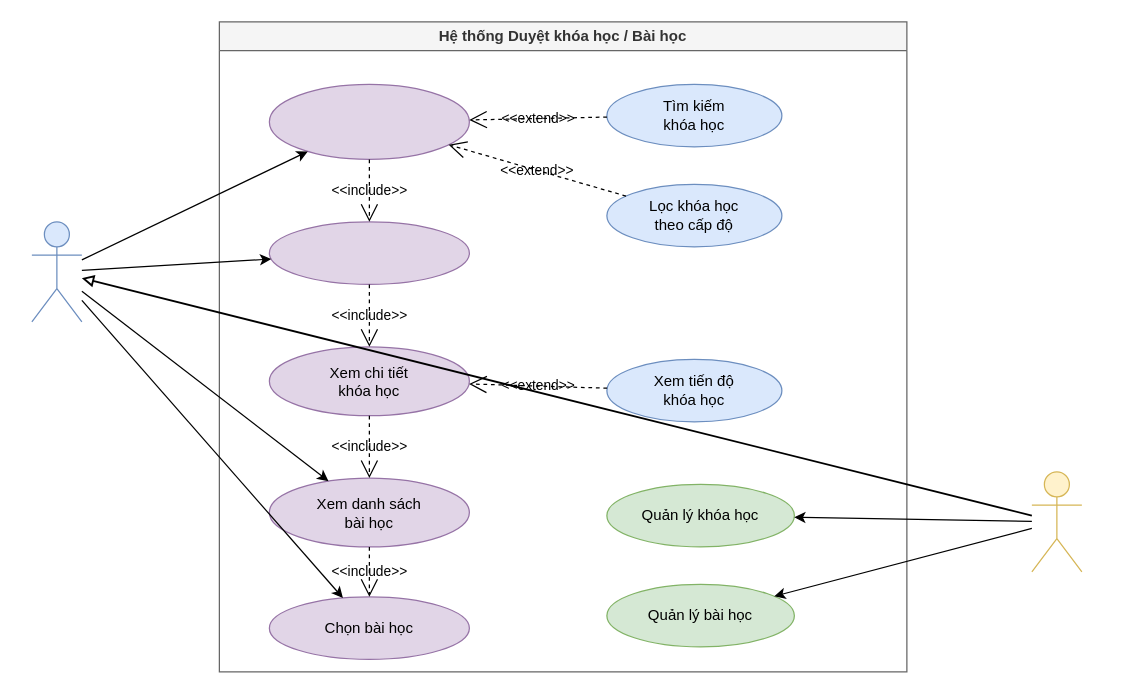
The diagram is 1121 pixels wide and 694 high, and some of its shapes have lost their labels. The shapes that lost their labels are listed below. From the top down, each one's centre as x and y in pixels, then its label:
At (x=368, y=121): "Xem danh sách khóa học".
At (x=56, y=271): "Người học".
At (x=368, y=252): "Chọn khóa học".
At (x=1056, y=521): "Quản trị viên".
